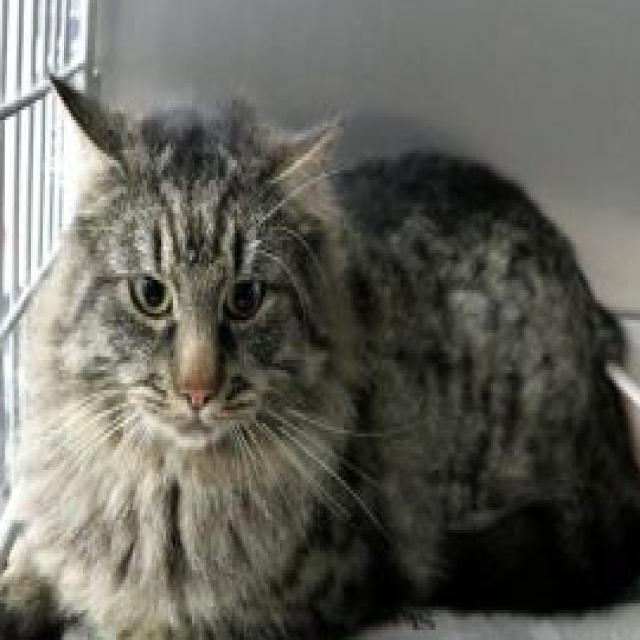Maine Coon: (0, 60, 640, 640)
